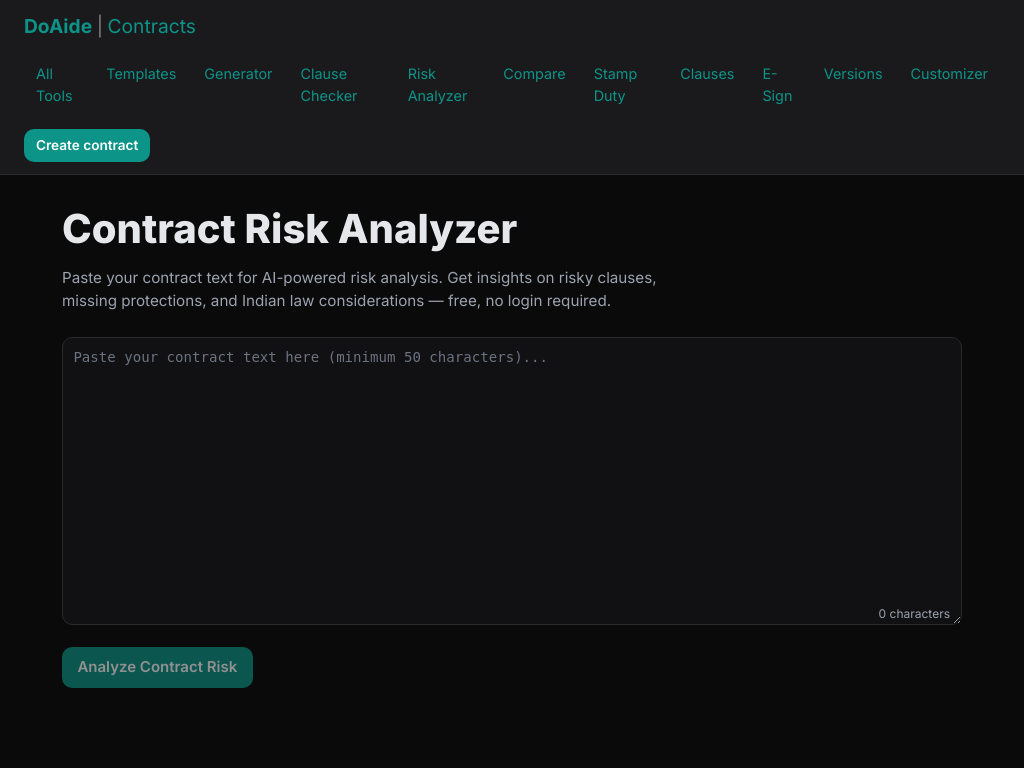
Test case: RiskAnalyzerPage › enables the button when text is entered
Type "This is a sample contract text with more than fifty characters for testing purposes." into the text box named "Contract text to analyze".
click(512, 481); type("This is a sample contract text with more than fifty characters for testing purposes.")  # box [62, 337, 962, 625]
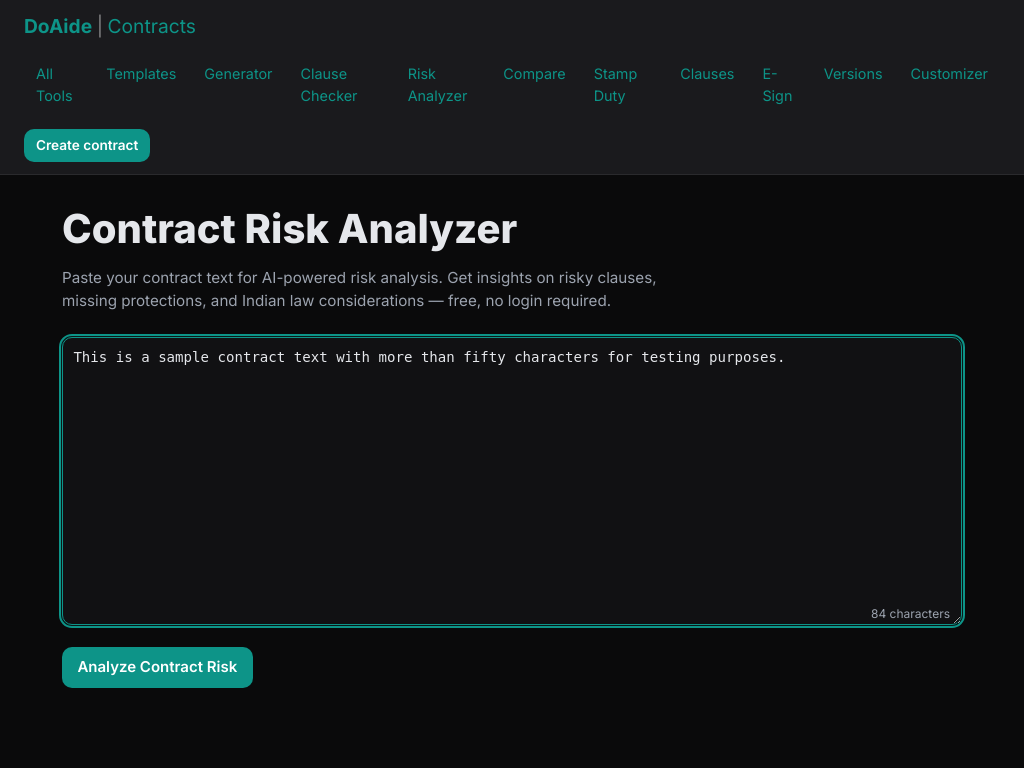
Expected: the button "Analyze Contract Risk" is enabled, [62, 647, 253, 688]
